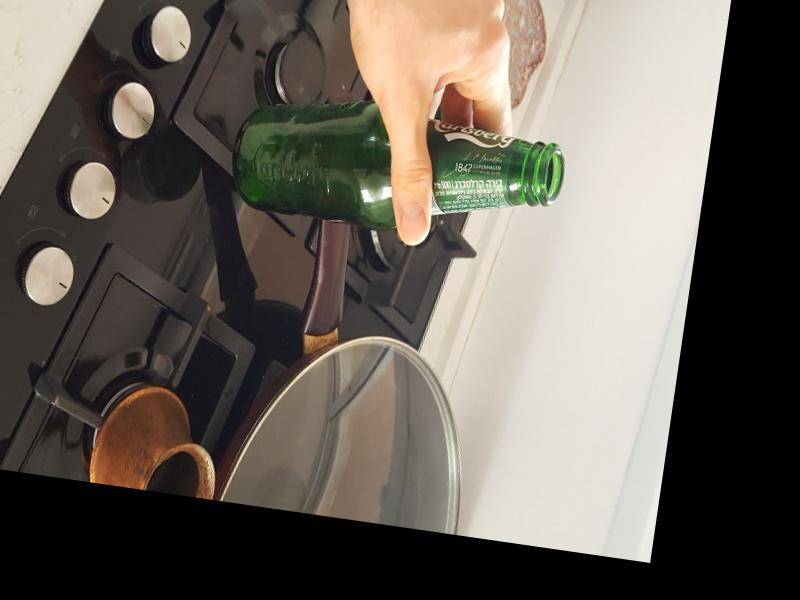Beer: (226, 96, 565, 251)
